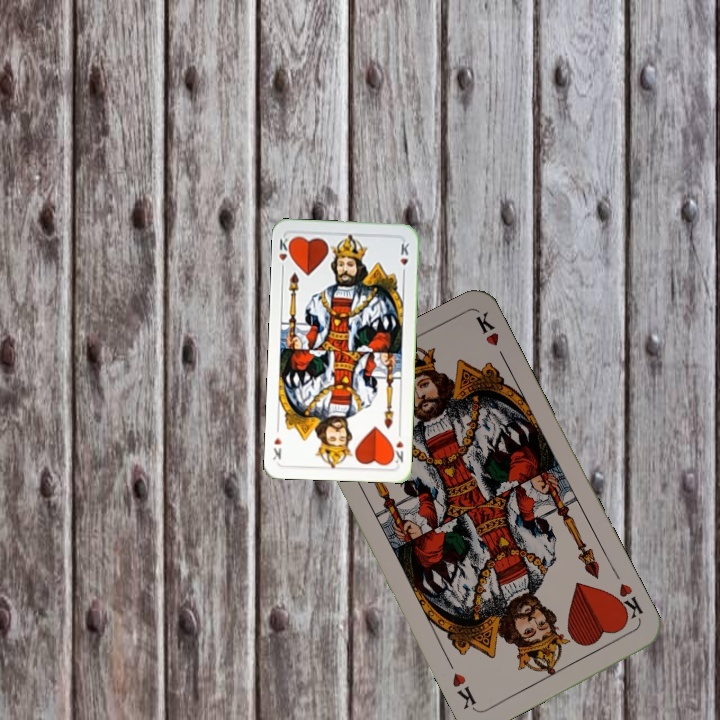HK: (609, 579, 646, 625), (275, 233, 294, 274), (391, 426, 406, 465)
